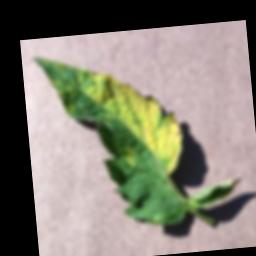Leaf_Mold: (79, 60, 186, 183)
